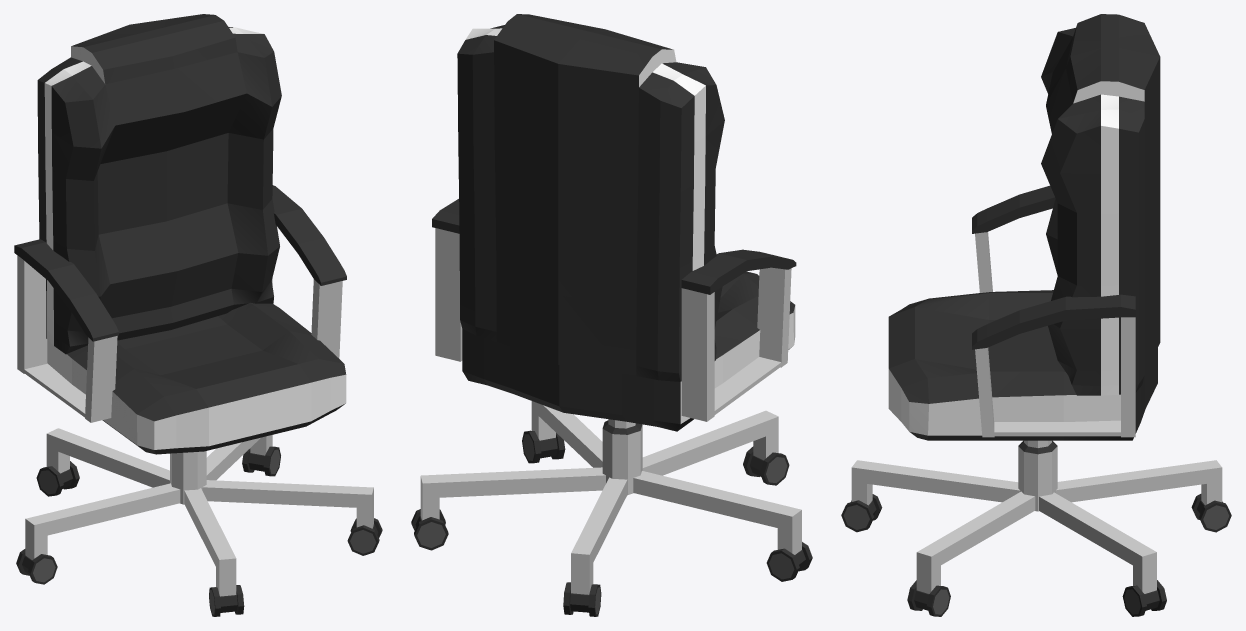
Rendered from chair.fbx.
The picture shows the model from 3 angles, left to right: view 1: azimuth 30°, elevation 25°; view 2: azimuth 150°, elevation 25°; view 3: azimuth 270°, elevation 25°; orthographic projection. The views are drawn at different scales.
Parts seen in each view (by area): view 1: chair; view 2: chair; view 3: chair.
Part boxes in pixels (<box>): chair: <box>14,14,382,616</box>; chair: <box>411,14,812,616</box>; chair: <box>841,14,1231,616</box>.
Bounding box in the file's own units: 3.24 × 4.84 × 3.41.
Materials: 1 (1 with a texture image).
